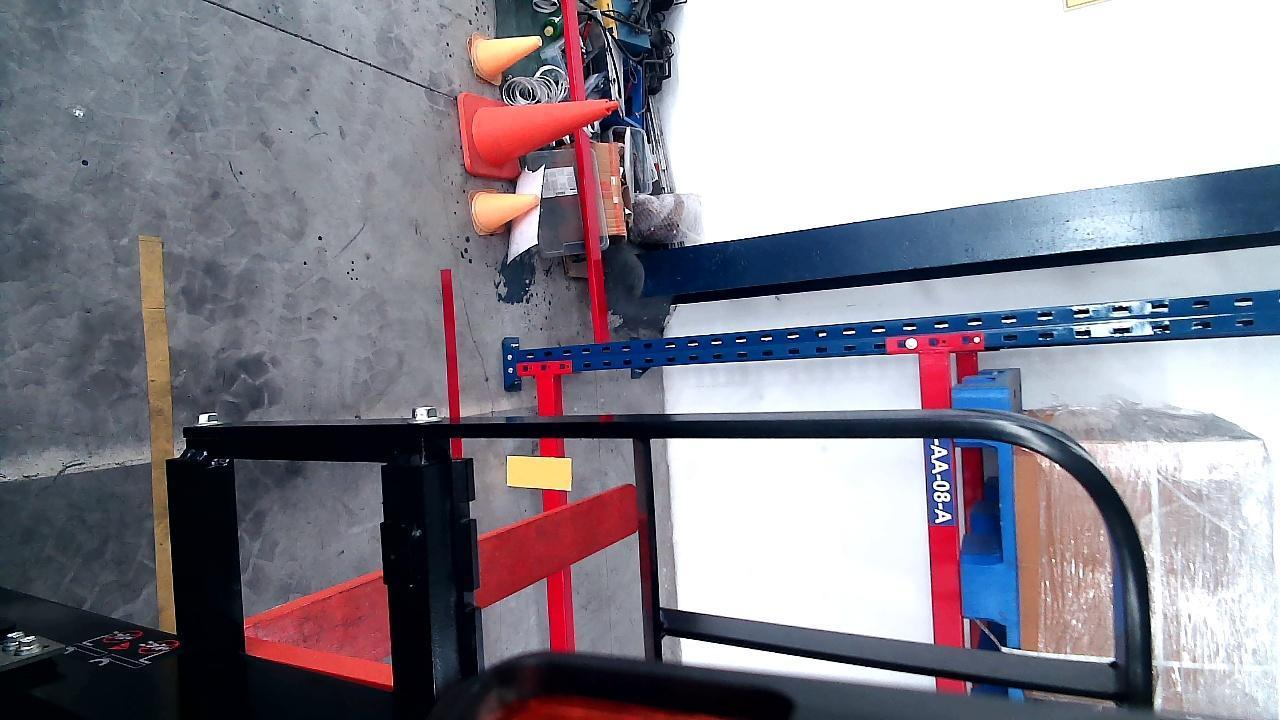h_rack: (925, 375, 963, 647), (538, 373, 570, 657)
orange_strip: (507, 454, 571, 490)
red_line: (440, 266, 465, 462)
small_pallet: (959, 429, 1019, 650)
yellow_line: (139, 237, 173, 637)
